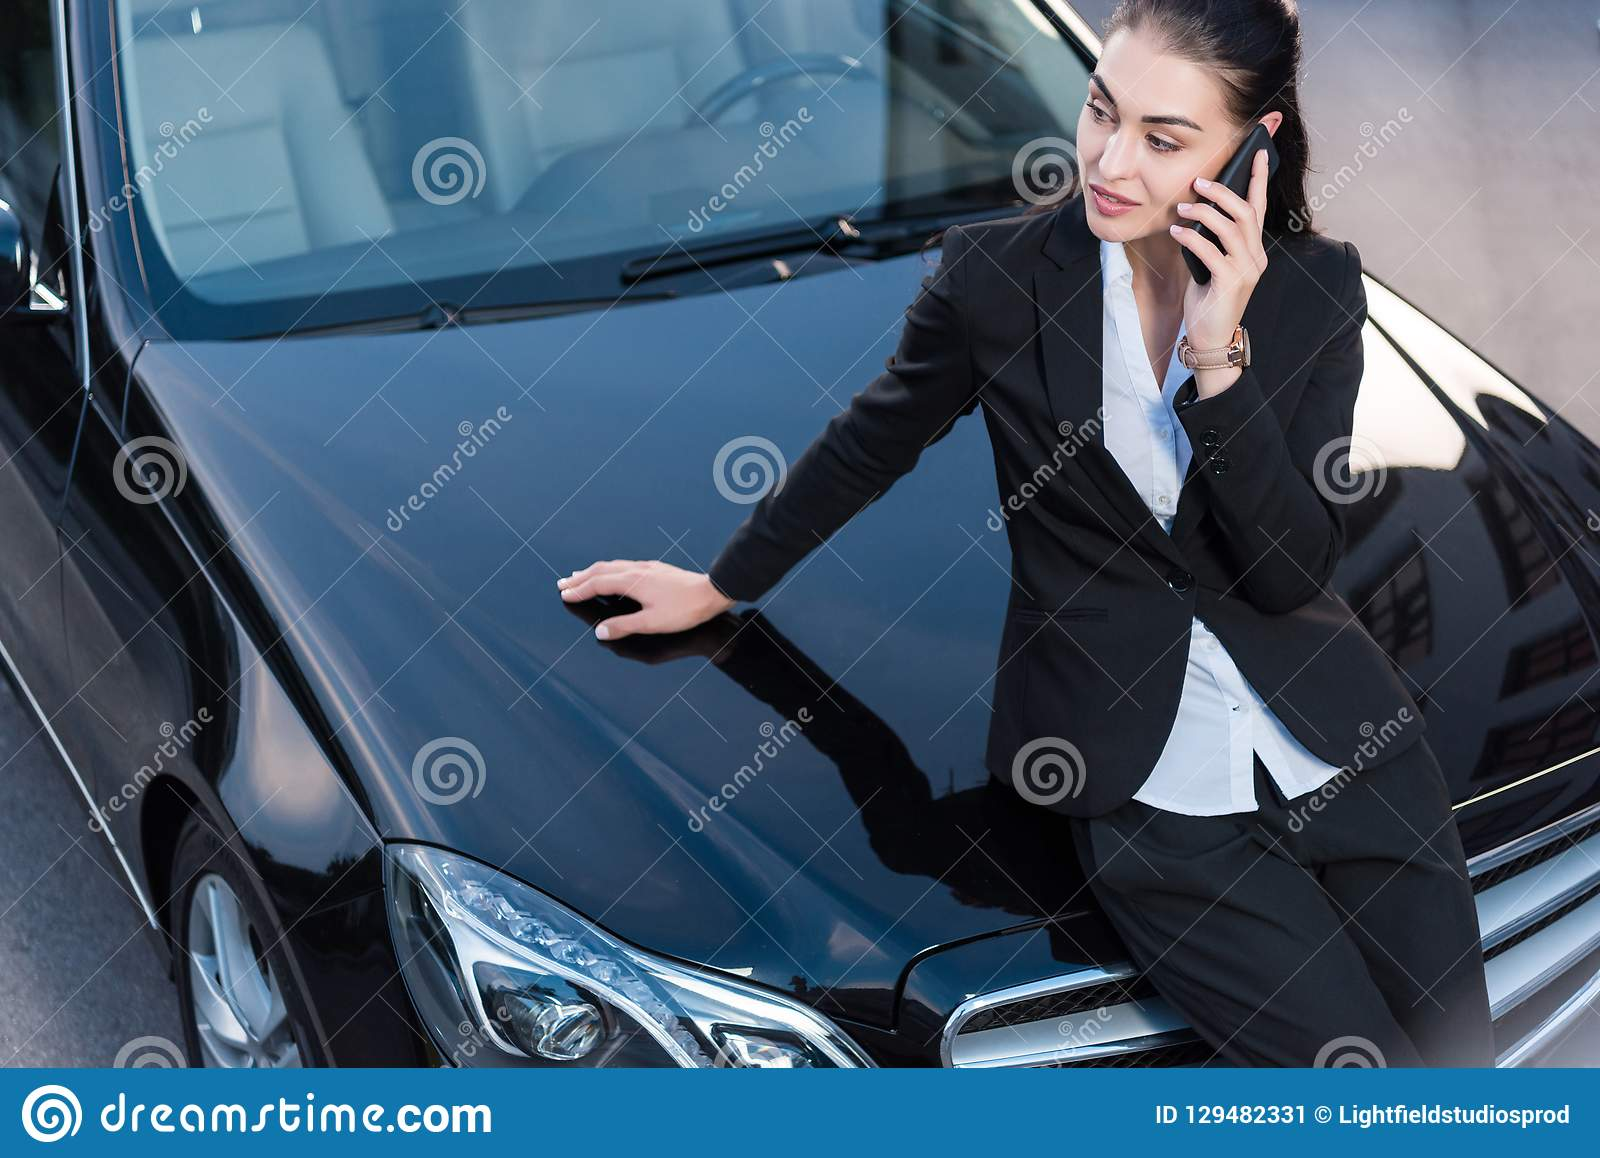phone: (1179, 119, 1284, 287)
talk: (1071, 68, 1289, 350)
